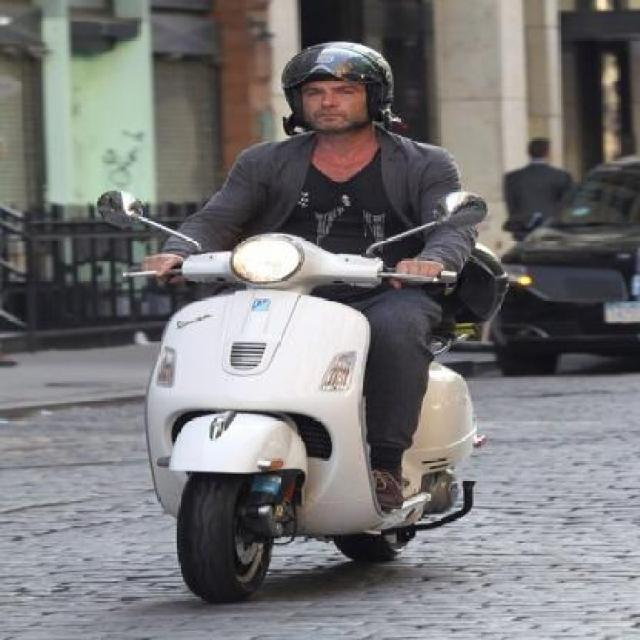helmet: (264, 38, 409, 151)
motorcycle: (97, 34, 504, 618)
